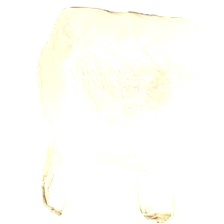plastic_bag: (17, 4, 213, 223)
